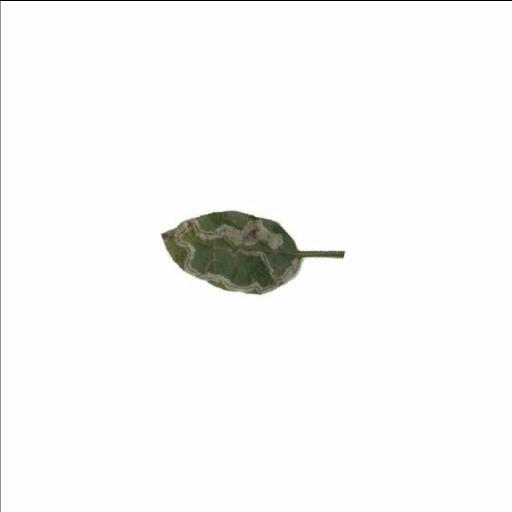Leaf Miner: (160, 210, 302, 291)
